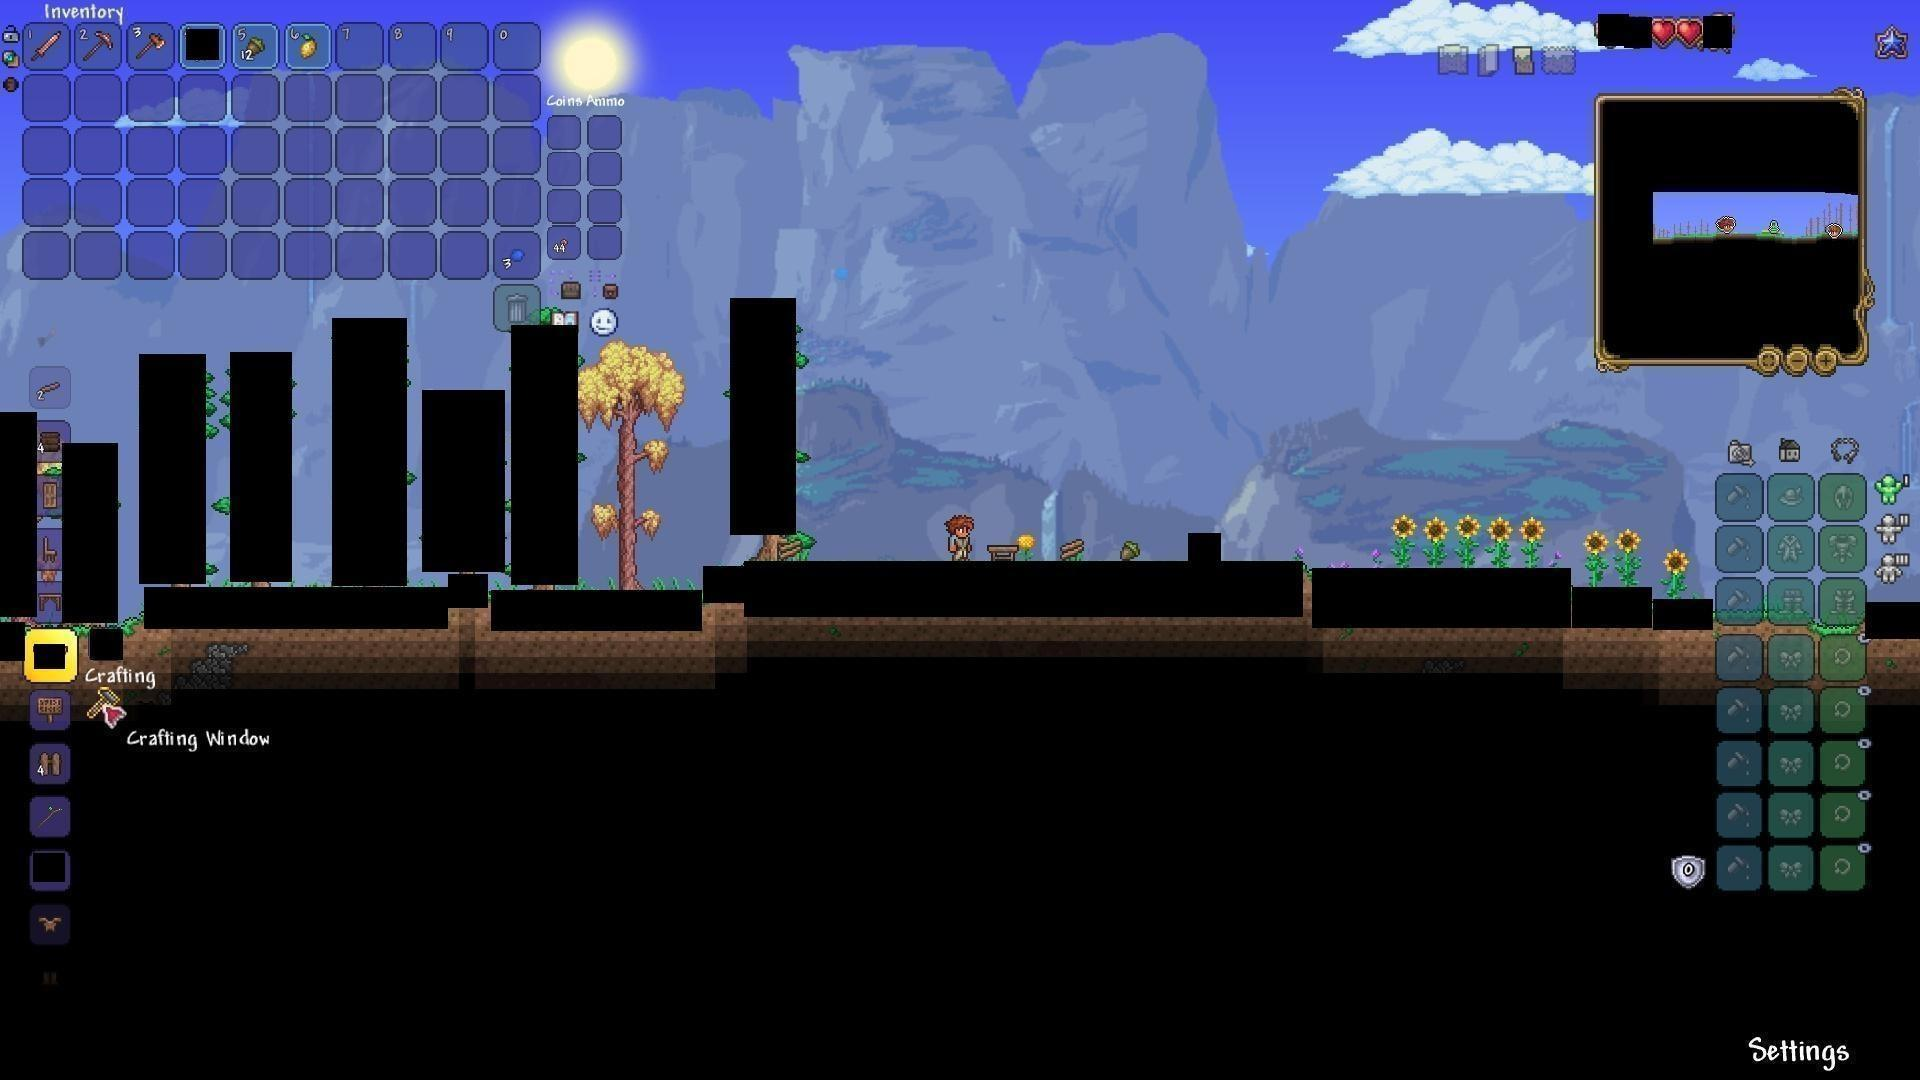breastplate: (36, 913, 65, 934)
heart: (1648, 17, 1676, 47), (1676, 17, 1704, 47)
tree: (576, 331, 684, 587)
wood: (775, 535, 808, 564), (1058, 535, 1091, 564)
workbench: (982, 541, 1019, 564)
